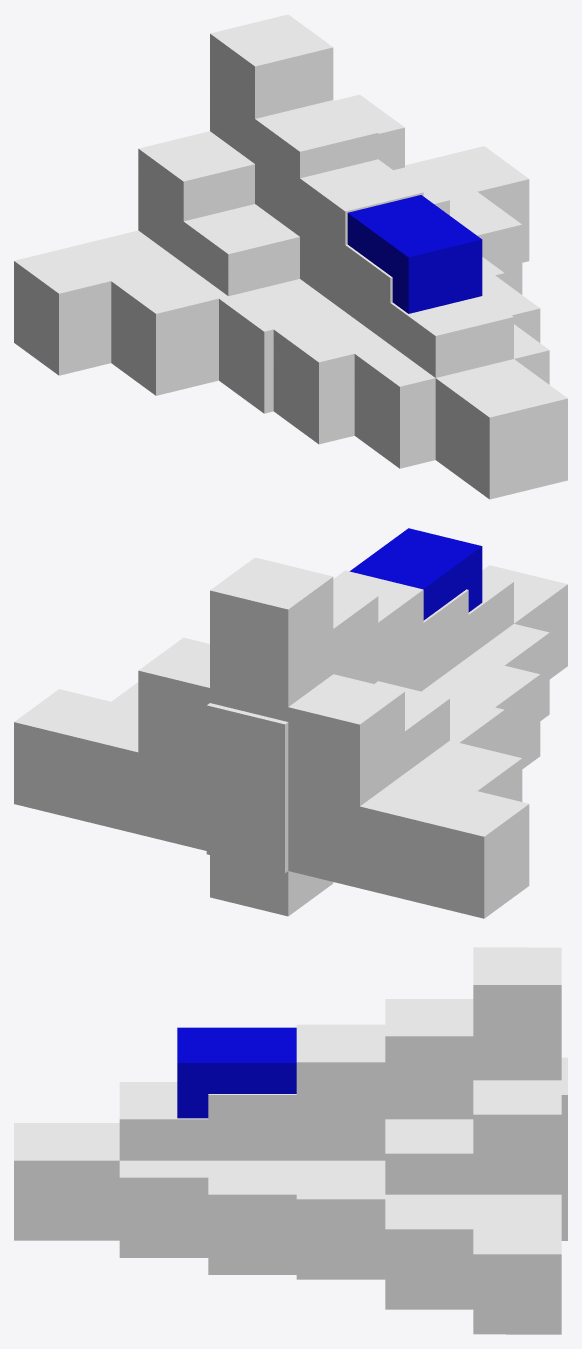
The model's file is ship.dae.
3 renders of one model, top to bottom at view 1: azimuth 30°, elevation 25°; view 2: azimuth 150°, elevation 25°; view 3: azimuth 270°, elevation 25°, orthographic. The views are drawn at different scales.
Parts seen in each view (by area): view 1: ship_window.1; view 2: ship_window.1; view 3: ship_window.1.
Boxes of the visible parts, x1,y1,x2,y2 form: ship_window.1: [14, 14, 567, 499]; ship_window.1: [14, 528, 567, 918]; ship_window.1: [14, 947, 567, 1334].
Size of the model in its own units: 120 by 74.9 by 125.
Materials: 2 (2 with a texture image).
